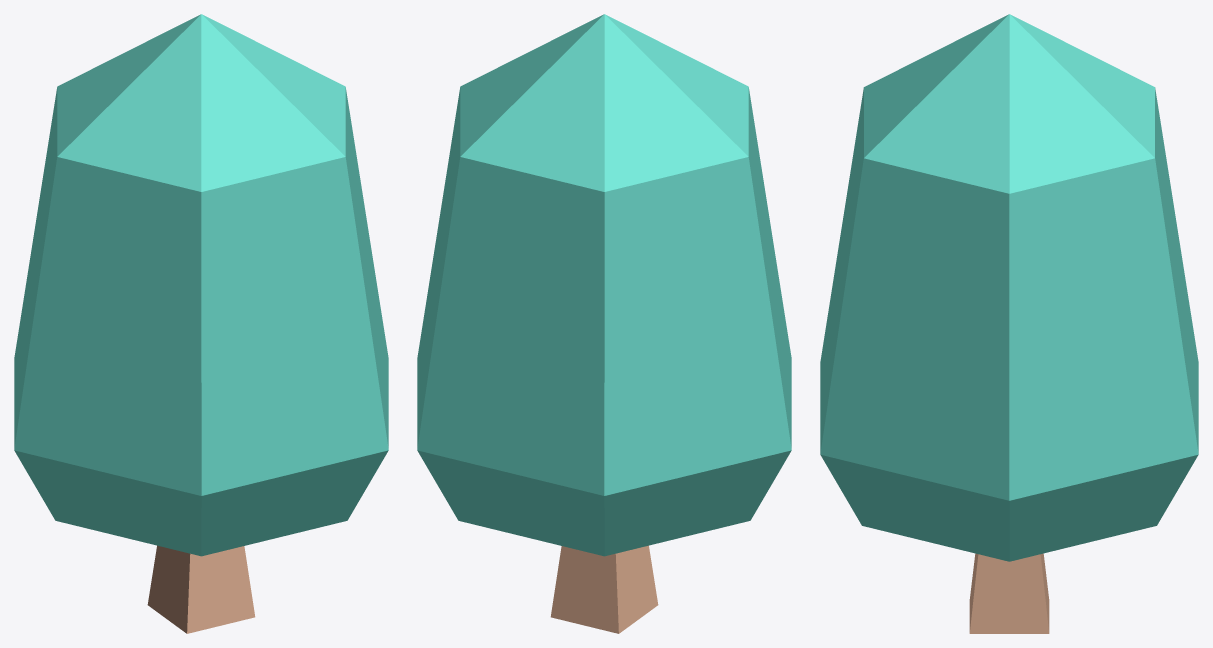
File: tree_fat.glb
3 views of the same model, side by side, from view 1: azimuth 30°, elevation 25°; view 2: azimuth 150°, elevation 25°; view 3: azimuth 270°, elevation 25° (orthographic).
Visible parts, largest first — view 1: tree_fat; view 2: tree_fat; view 3: tree_fat.
Part boxes in pixels (bbox=[...]): tree_fat: bbox=[14, 14, 388, 633]; tree_fat: bbox=[417, 14, 791, 633]; tree_fat: bbox=[820, 14, 1198, 633].
Size of the model in its own units: 0.755 by 1.15 by 0.6539.
